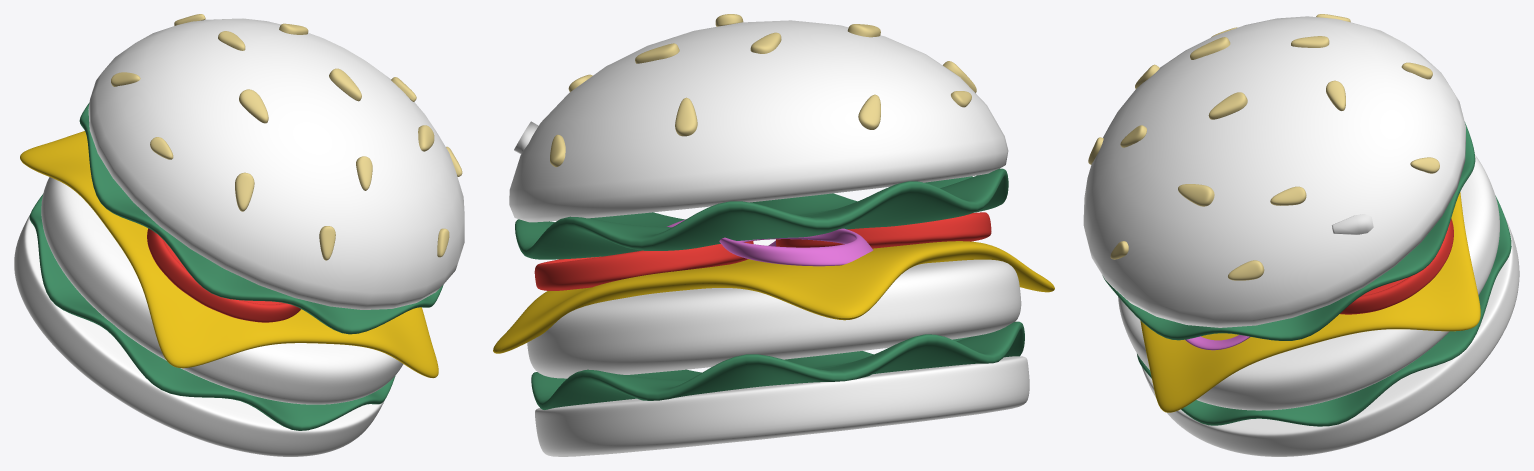
Rendered from Burger_cartoon.glb.
The picture shows the model from 3 angles, left to right: view 1: azimuth 30°, elevation 25°; view 2: azimuth 150°, elevation 25°; view 3: azimuth 270°, elevation 25°; orthographic projection. The views are drawn at different scales.
Visible parts, largest first — view 1: Sphere.001, meat hamburger.001, cheese.001, hamburger.001, salad.001, seeds.001, tomatoes.001; view 2: Sphere.001, salad.001, meat hamburger.001, hamburger.001, cheese.001, tomatoes.001, seeds.001, onion.001; view 3: Sphere.001, meat hamburger.001, cheese.001, hamburger.001, salad.001, seeds.001, tomatoes.001, seeds, onion.001.
Boxes of the visible parts, bbox=[...] form: Sphere.001: bbox=[88, 18, 464, 309]; meat hamburger.001: bbox=[41, 177, 403, 404]; cheese.001: bbox=[20, 131, 438, 378]; hamburger.001: bbox=[14, 215, 384, 456]; salad.001: bbox=[29, 102, 443, 430]; seeds.001: bbox=[111, 14, 462, 260]; tomatoes.001: bbox=[147, 228, 300, 322]; Sphere.001: bbox=[509, 20, 1008, 222]; salad.001: bbox=[515, 168, 1024, 409]; meat hamburger.001: bbox=[527, 259, 1021, 378]; hamburger.001: bbox=[535, 356, 1029, 456]; cheese.001: bbox=[493, 241, 1054, 353]; tomatoes.001: bbox=[534, 212, 991, 290]; seeds.001: bbox=[550, 14, 976, 167]; onion.001: bbox=[667, 219, 873, 266]; Sphere.001: bbox=[1083, 16, 1465, 327]; meat hamburger.001: bbox=[1118, 155, 1499, 410]; cheese.001: bbox=[1140, 192, 1480, 412]; hamburger.001: bbox=[1141, 218, 1519, 456]; salad.001: bbox=[1102, 122, 1511, 426]; seeds.001: bbox=[1088, 14, 1439, 280]; tomatoes.001: bbox=[1340, 218, 1453, 314]; seeds: bbox=[1332, 214, 1373, 234]; onion.001: bbox=[1185, 335, 1250, 350].
Bounding box in the file's own units: 2.16 × 2.01 × 2.16.
